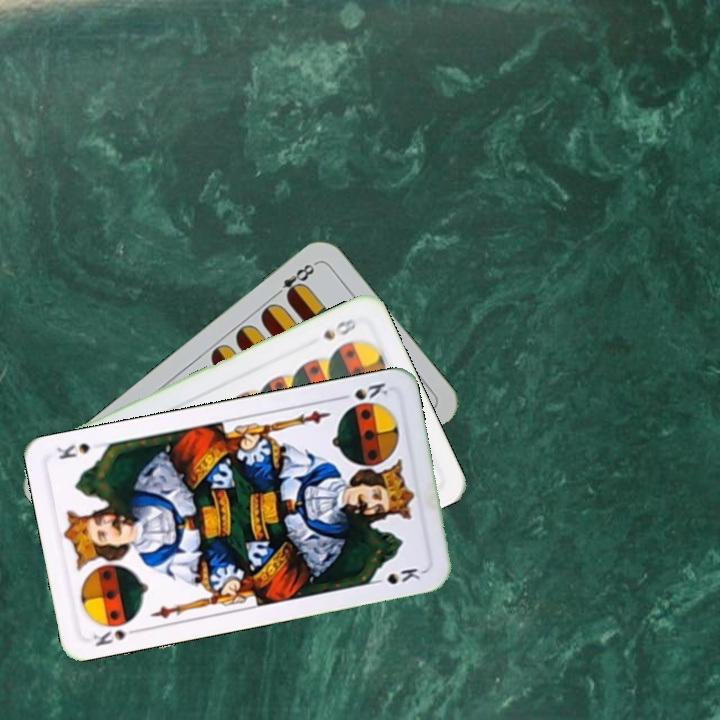E8: (269, 259, 319, 302)
S8: (319, 314, 359, 343)
SK: (333, 378, 392, 403), (89, 624, 144, 649)
